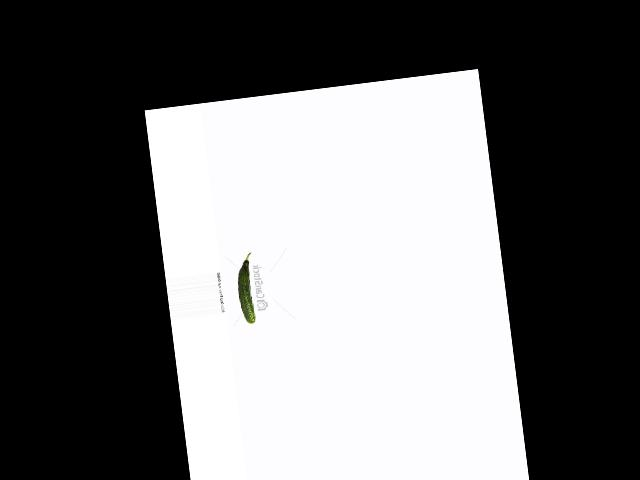cucumber: (233, 252, 259, 324)
